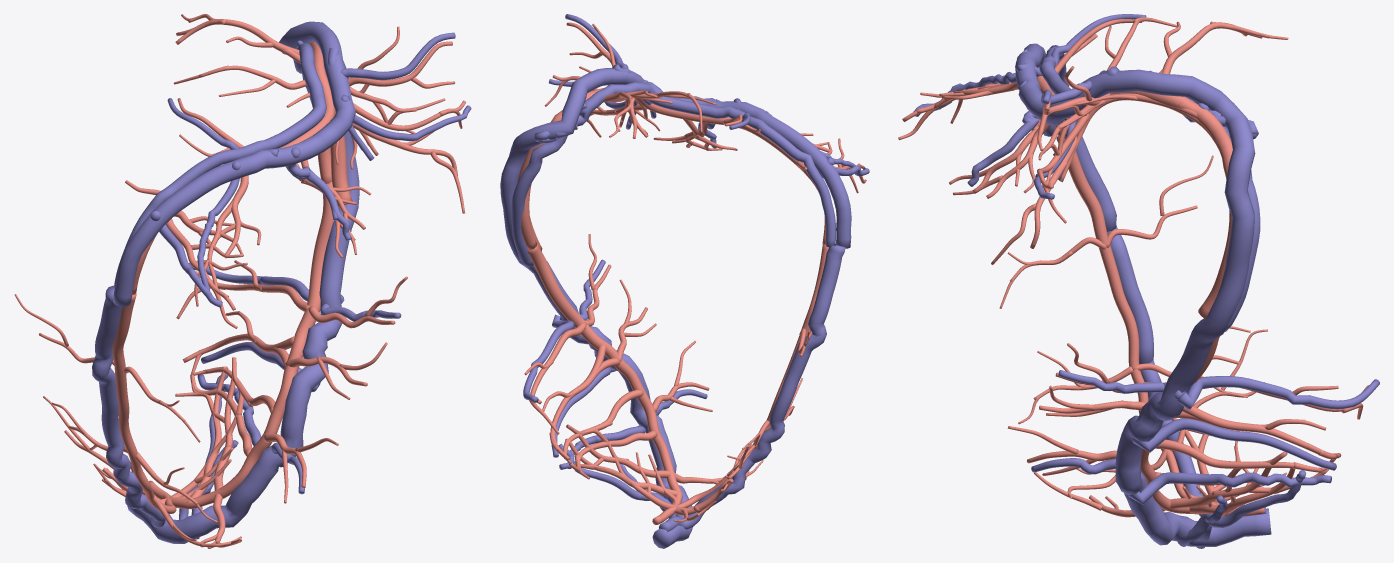
Rendered from vessels_8.glb.
3 views of the same model, side by side, from view 1: azimuth 30°, elevation 25°; view 2: azimuth 150°, elevation 25°; view 3: azimuth 270°, elevation 25° (orthographic). The views are drawn at different scales.
Parts seen in each view (by area): view 1: Renderer Node; view 2: Renderer Node; view 3: Renderer Node.
Boxes of the visible parts, x1,y1,x2,y2 form: Renderer Node: (14, 14, 471, 548); Renderer Node: (500, 14, 869, 548); Renderer Node: (898, 14, 1379, 548).
Size of the model in its own units: 95.58 by 124 by 95.47.
